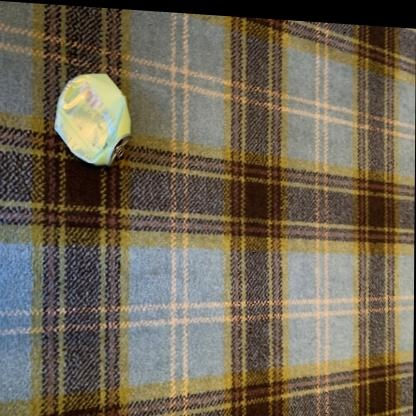trash: (54, 74, 130, 165)
